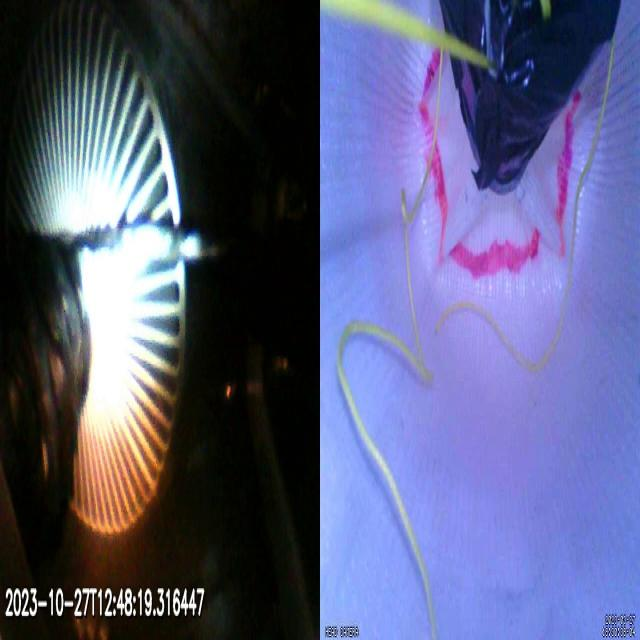red-circle: (419, 51, 583, 280)
